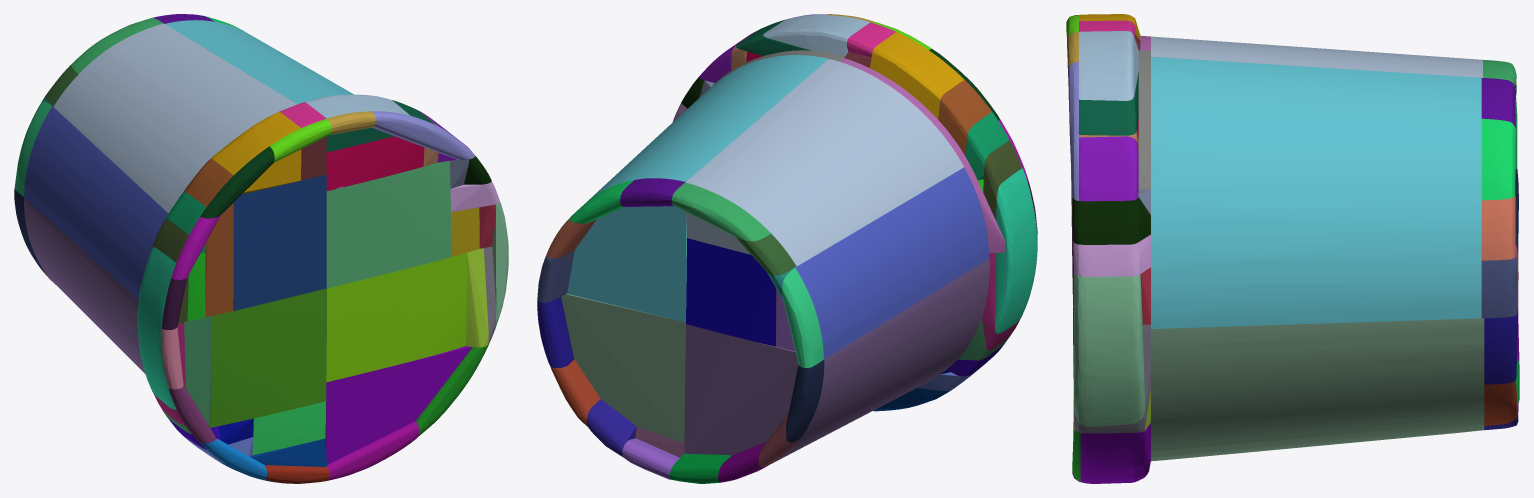
The model's file is coacd_collision.obj.
3 renders of one model, left to right at view 1: azimuth 30°, elevation 25°; view 2: azimuth 150°, elevation 25°; view 3: azimuth 270°, elevation 25°, orthographic. The views are drawn at different scales.
Visible parts, largest first — view 1: geometry_6, geometry_47, geometry_4, geometry_30, geometry_3, geometry_44, geometry_32, geometry_1, geometry_2, geometry_67, geometry_64, geometry_55 (+36 smaller); view 2: geometry_6, geometry_1, geometry_2, geometry_47, geometry_0, geometry_5, geometry_64, geometry_59, geometry_54, geometry_10, geometry_61, geometry_67 (+27 smaller); view 3: geometry_2, geometry_0, geometry_39, geometry_6, geometry_54, geometry_51, geometry_32, geometry_57, geometry_23, geometry_49, geometry_20, geometry_66 (+10 smaller).
Boxes of the visible parts, x1,y1,x2,y2 form: geometry_6: (53, 23, 297, 213); geometry_47: (24, 106, 168, 299); geometry_4: (326, 253, 466, 382); geometry_30: (210, 288, 326, 427); geometry_3: (326, 161, 451, 288); geometry_44: (233, 174, 326, 310); geometry_32: (325, 346, 472, 464); geometry_1: (24, 197, 145, 373); geometry_2: (165, 20, 353, 104); geometry_67: (182, 159, 233, 317); geometry_64: (137, 247, 176, 409); geometry_55: (326, 136, 424, 191); geometry_6: (685, 59, 963, 266); geometry_1: (684, 258, 989, 463); geometry_2: (567, 55, 828, 322); geometry_47: (795, 167, 989, 359); geometry_0: (561, 293, 685, 442); geometry_5: (686, 238, 775, 346); geometry_64: (994, 168, 1037, 333); geometry_59: (870, 32, 964, 119); geometry_54: (763, 15, 870, 56); geometry_10: (671, 182, 770, 241); geometry_61: (782, 267, 823, 367); geometry_67: (938, 80, 991, 156); geometry_2: (1151, 57, 1481, 328); geometry_0: (1151, 318, 1484, 461); geometry_39: (1073, 274, 1144, 426); geometry_6: (1151, 36, 1482, 77); geometry_54: (1079, 31, 1138, 100); geometry_51: (1079, 136, 1138, 201); geometry_32: (1080, 423, 1150, 483); geometry_57: (1072, 197, 1150, 244); geometry_23: (1481, 118, 1515, 200); geometry_49: (1073, 234, 1150, 276); geometry_20: (1484, 313, 1517, 384); geometry_66: (1079, 72, 1138, 135).
Size of the model in its own units: 119 by 120 by 115.
